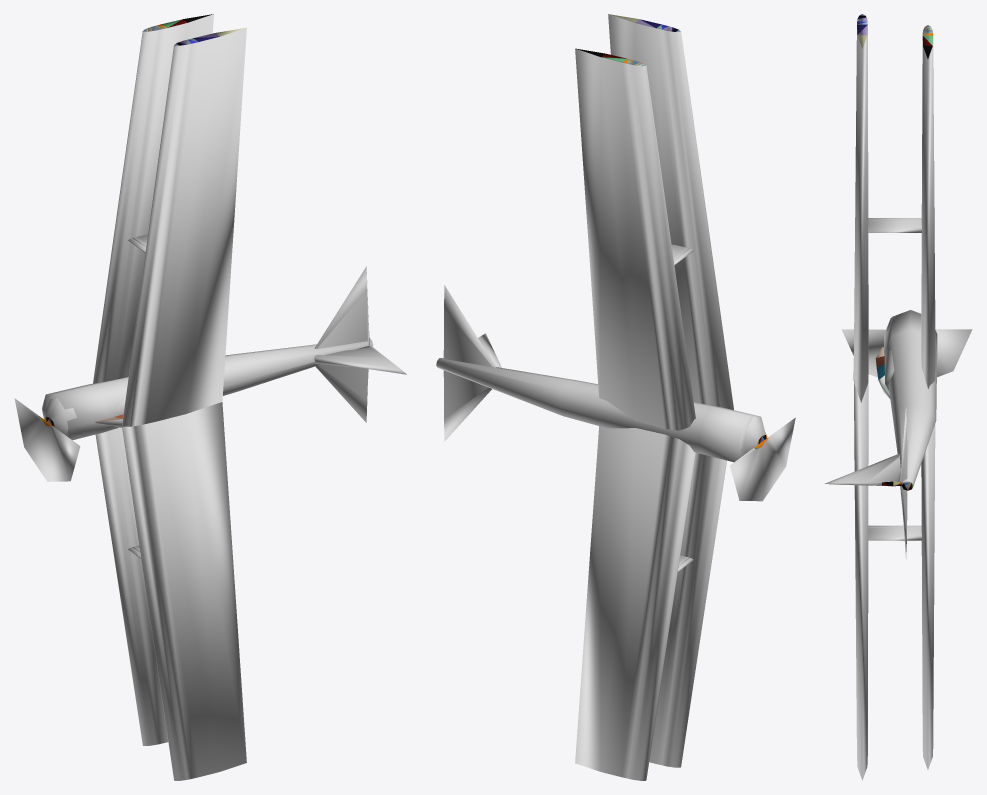
3 renders of one model, left to right at view 1: azimuth 30°, elevation 25°; view 2: azimuth 150°, elevation 25°; view 3: azimuth 270°, elevation 25°, orthographic.
Size of the model in its own units: 0.437 by 0.95 by 0.1746.
